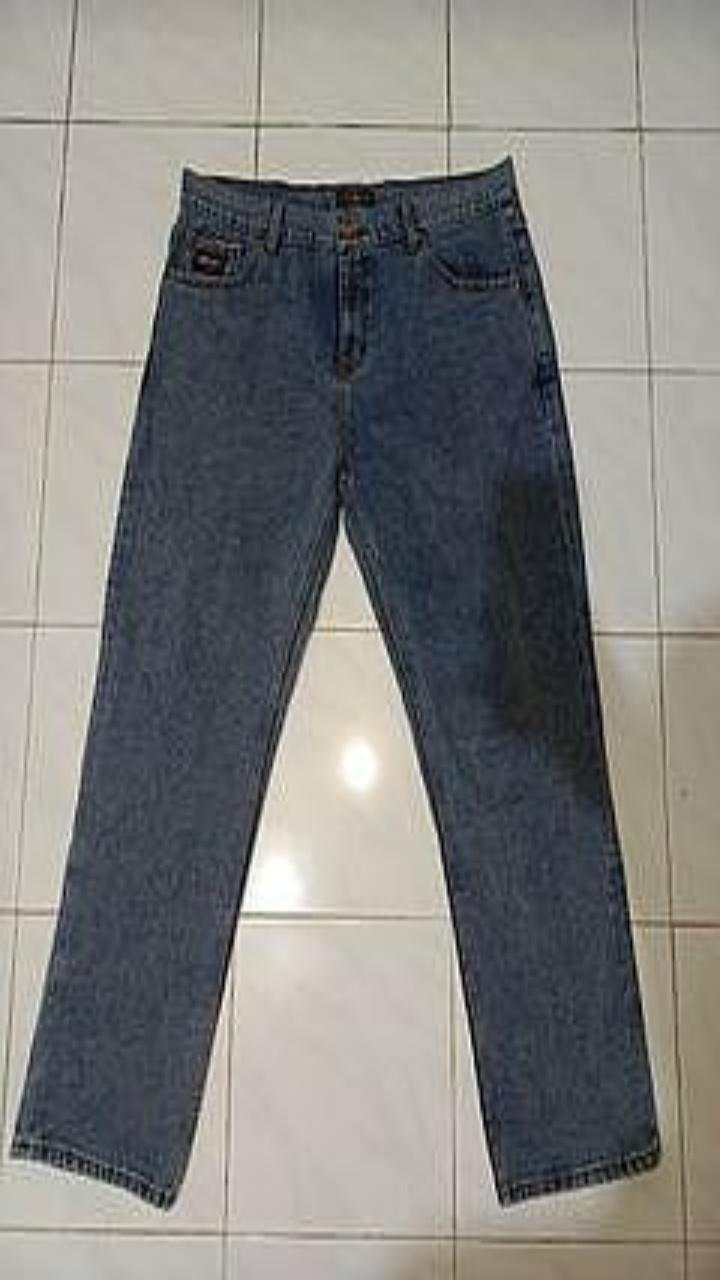Jeans: (10, 155, 660, 1207)
